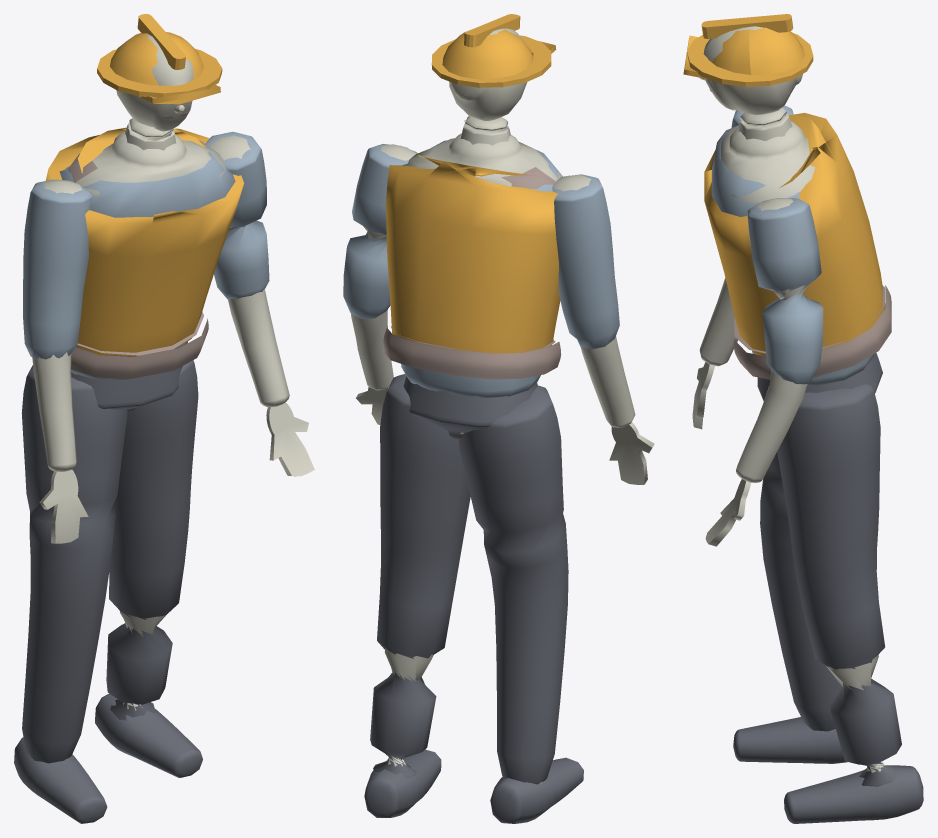
The model's file is undead-horde-and-infected-variants-walker-site-worker--8a69540b__11993.glb.
3 renders of one model, left to right at view 1: azimuth 30°, elevation 25°; view 2: azimuth 150°, elevation 25°; view 3: azimuth 270°, elevation 25°, orthographic. The views are drawn at different scales.
Parts seen in each view (by area): view 1: walker-site-worker-standing; view 2: walker-site-worker-standing; view 3: walker-site-worker-standing.
Part boxes in pixels (<box>): walker-site-worker-standing: <box>14,14,314,823</box>; walker-site-worker-standing: <box>343,14,654,823</box>; walker-site-worker-standing: <box>683,14,923,823</box>.
Size of the model in its own units: 0.6908 by 1.79 by 0.496.
